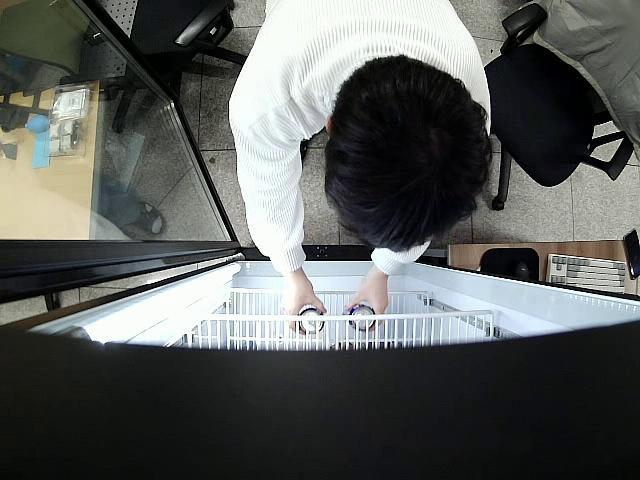14_welchsGrape: (346, 302, 376, 331), (296, 308, 327, 336)
